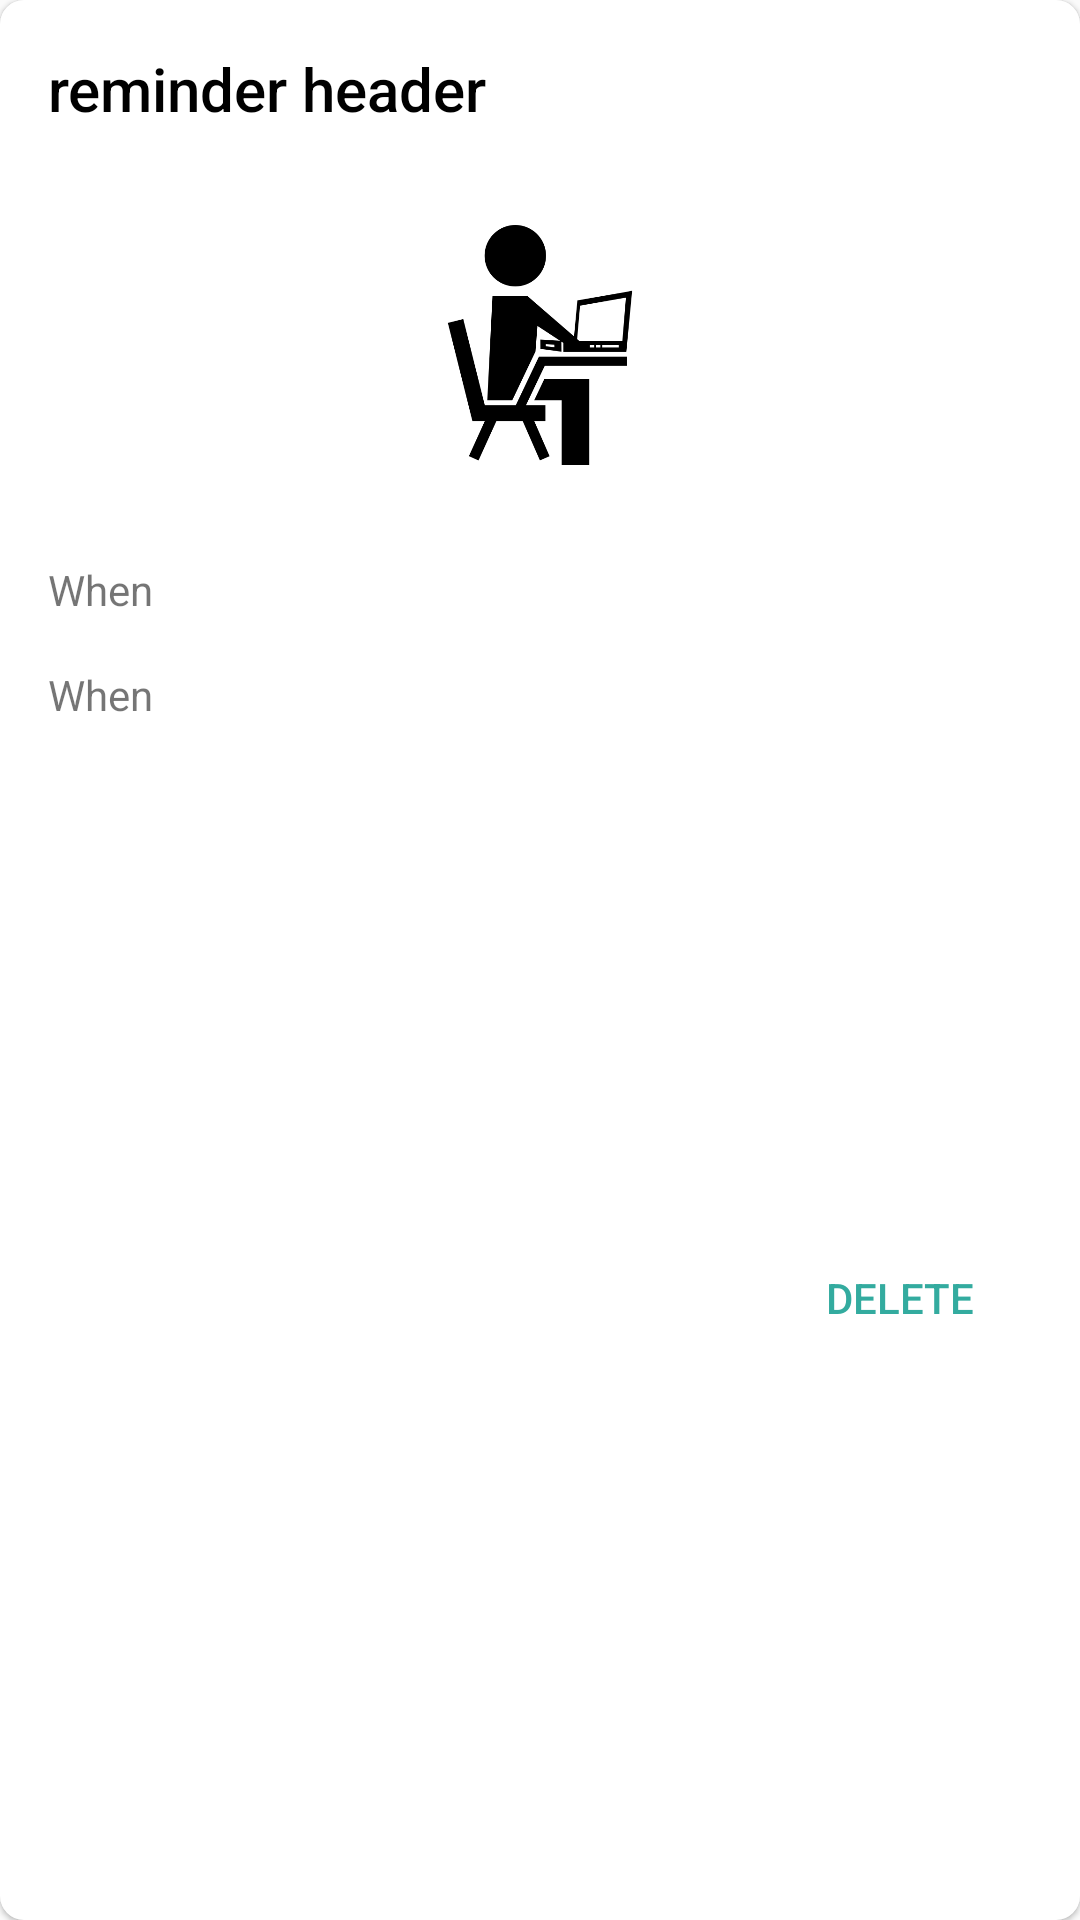

Icons on this 1080 x 1920 Android screen, each with the point to tap as [x,y]:
sitting: [540,345]
